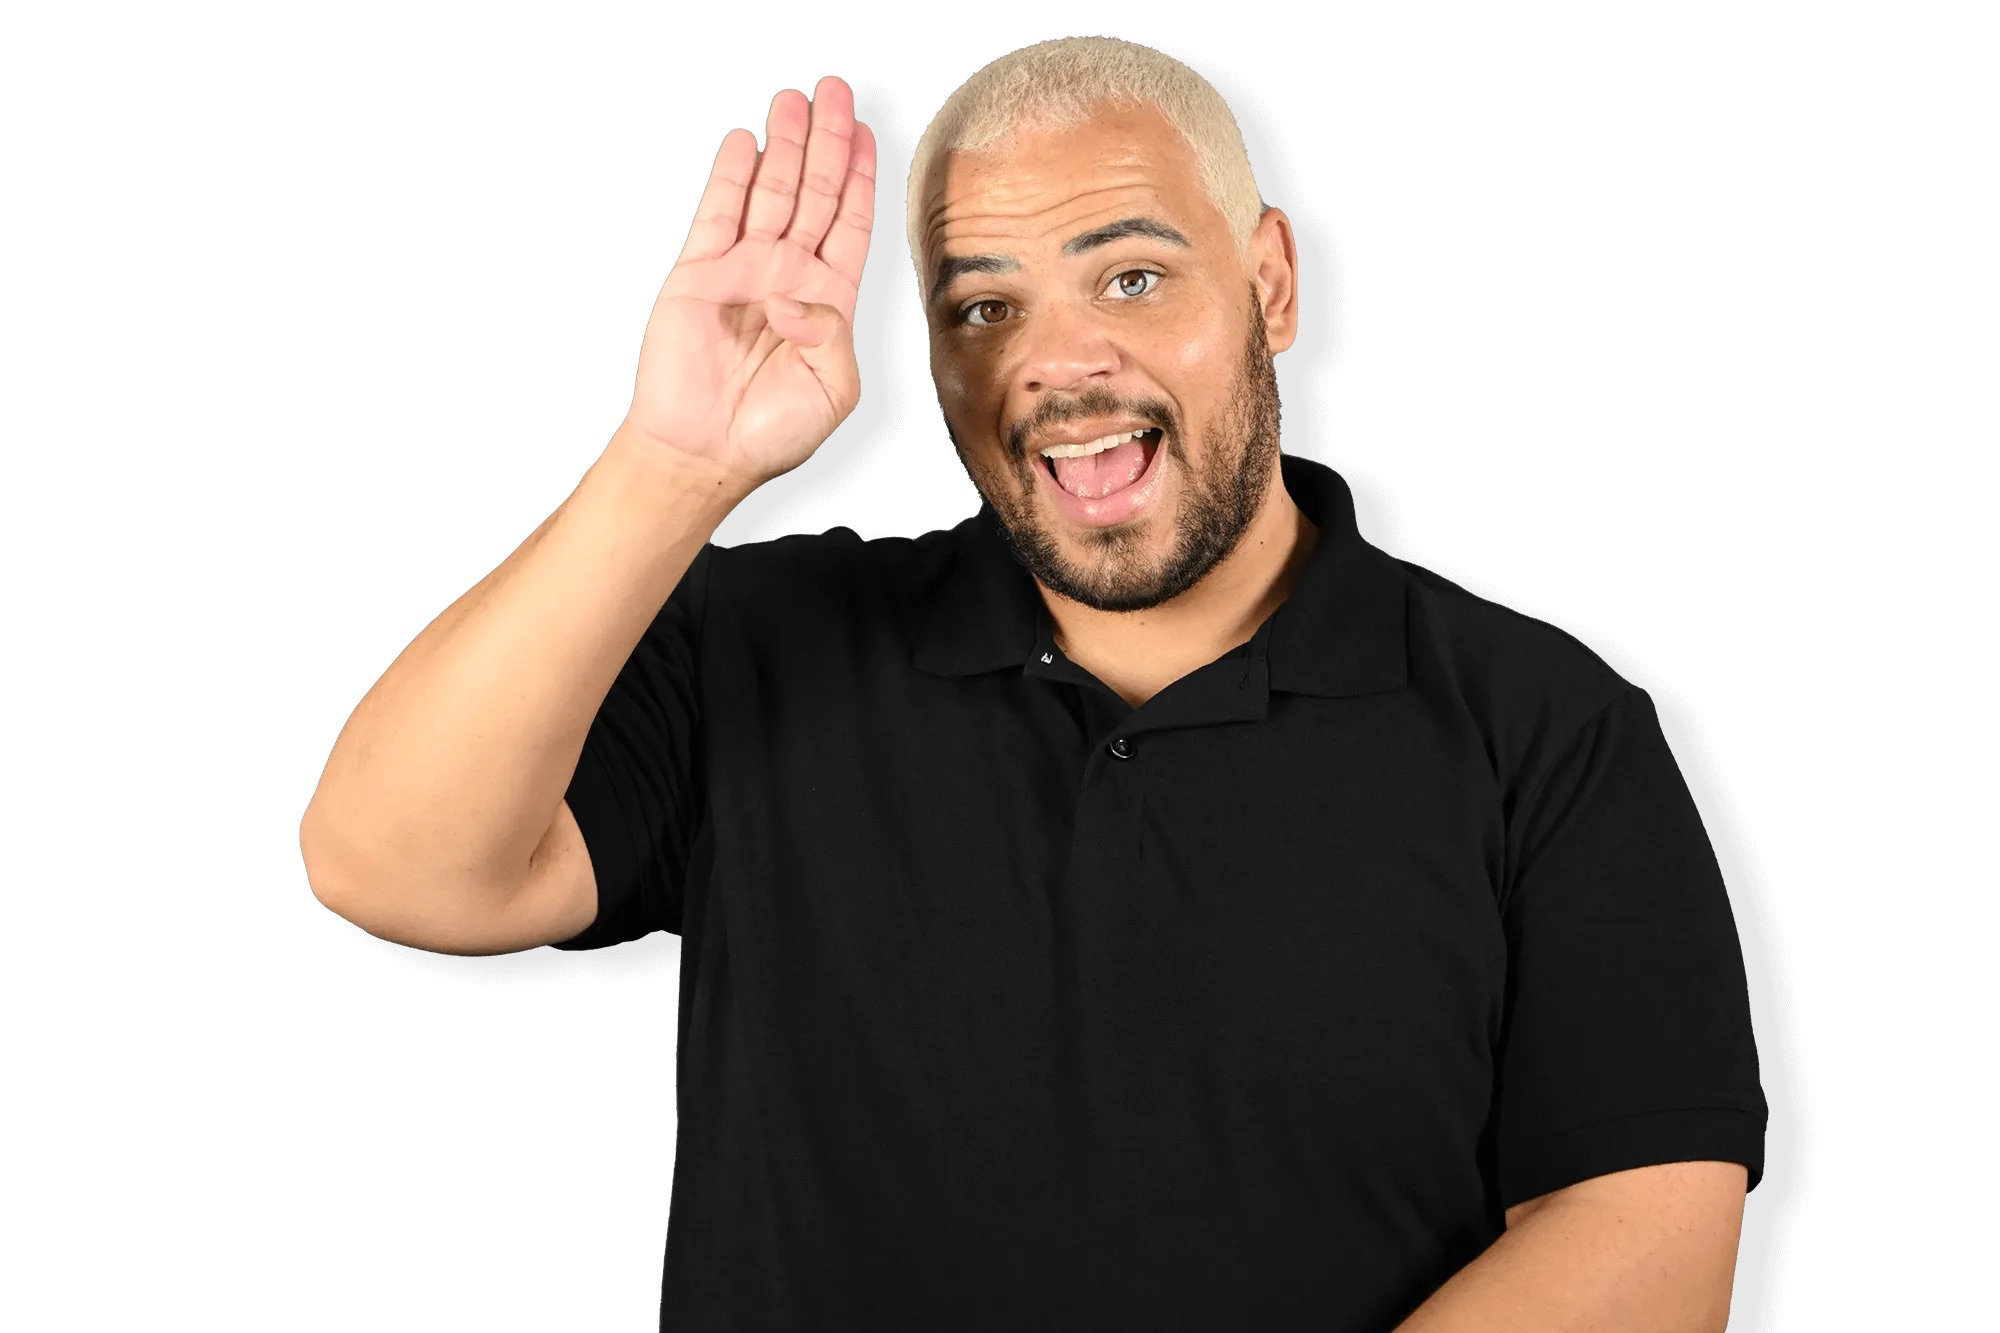hello: (654, 65, 900, 501)
